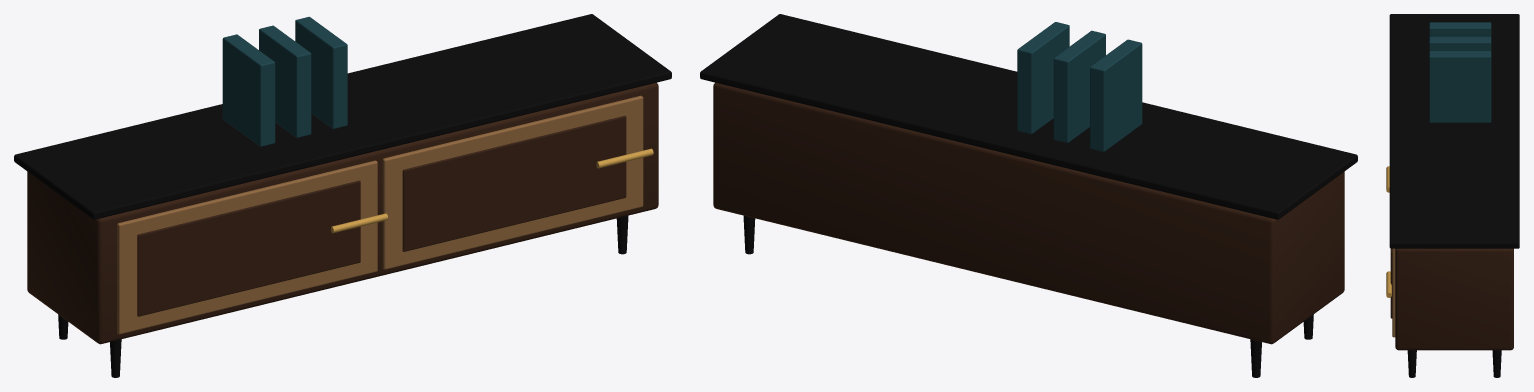
The model's file is modern_tv_console.obj.
The picture shows the model from 3 angles, left to right: view 1: azimuth 30°, elevation 25°; view 2: azimuth 150°, elevation 25°; view 3: azimuth 270°, elevation 25°; orthographic projection. The views are drawn at different scales.
Visible parts, largest first — view 1: top, body, door_panel.001, door_panel, door, door.001, book_0, book_2, book_1; view 2: body, top, book_0, book_1, book_2; view 3: top, body, book_2, book_1, book_0, door.001, leg.003, leg.002, door_panel.001, handle.001.
Boxes of the visible parts, x1,y1,x2,y2 form: top: [14, 14, 671, 219]; body: [27, 82, 658, 344]; door_panel.001: [402, 115, 626, 251]; door_panel: [137, 180, 360, 316]; door: [117, 160, 377, 334]; door.001: [382, 95, 643, 269]; book_0: [222, 34, 275, 146]; book_2: [295, 16, 347, 129]; book_1: [259, 25, 311, 137]; body: [713, 82, 1344, 344]; top: [700, 14, 1357, 219]; book_0: [1090, 39, 1142, 151]; book_1: [1053, 30, 1105, 142]; book_2: [1017, 22, 1069, 134]; top: [1389, 14, 1519, 248]; body: [1395, 248, 1513, 350]; book_2: [1429, 51, 1491, 122]; book_1: [1429, 36, 1491, 51]; book_0: [1429, 22, 1491, 36]; door.001: [1392, 248, 1395, 337]; leg.003: [1492, 350, 1501, 377]; leg.002: [1407, 350, 1416, 377]; door_panel.001: [1390, 248, 1392, 318]; handle.001: [1386, 271, 1391, 297].
Bounding box in the file's own units: 1.92 × 0.84 × 0.472.
